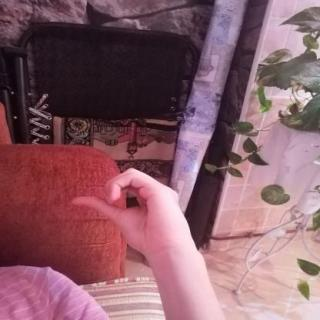WAW: (60, 160, 204, 266)
